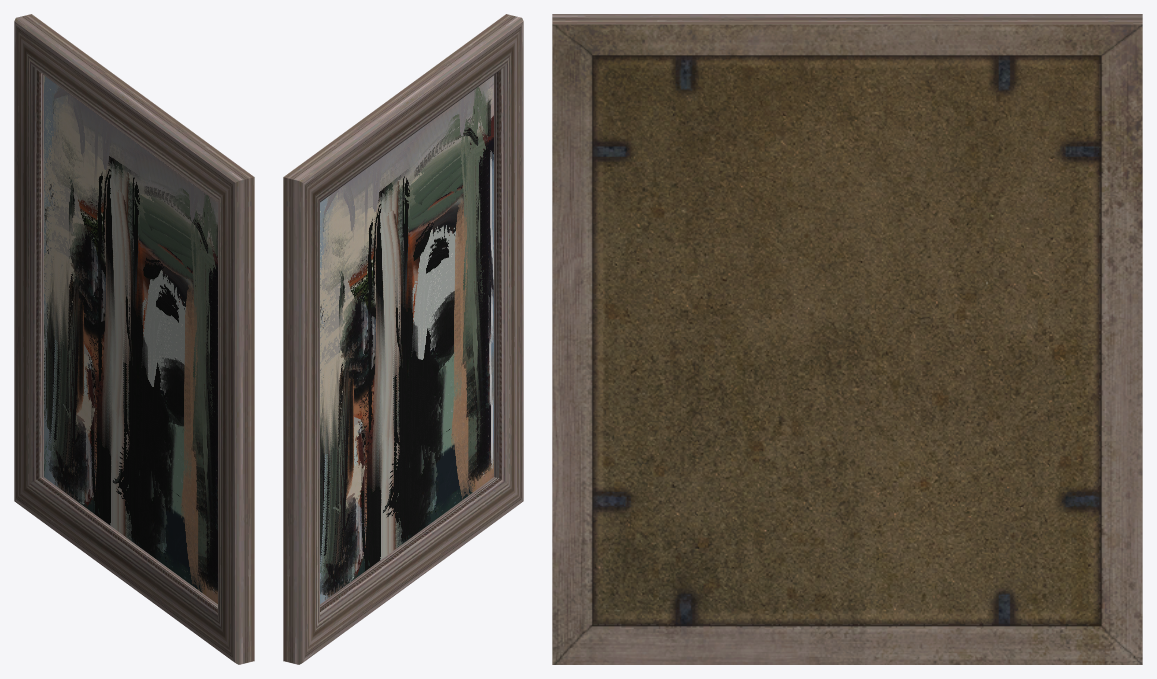
File: painting_kitsch_01_wau.dae
3 views of the same model, side by side, from view 1: azimuth 30°, elevation 25°; view 2: azimuth 150°, elevation 25°; view 3: azimuth 270°, elevation 25° (orthographic). The views are drawn at different scales.
Visible parts, largest first — view 1: painting_kitsch_01_Mesh; view 2: painting_kitsch_01_Mesh; view 3: Mesh__2_, painting_kitsch_01_Mesh.
Part boxes in pixels (x1=…): painting_kitsch_01_Mesh: x1=14, y1=14, x2=254, y2=664; painting_kitsch_01_Mesh: x1=283, y1=14, x2=523, y2=664; Mesh__2_: x1=552, y1=24, x2=1142, y2=664; painting_kitsch_01_Mesh: x1=552, y1=14, x2=1142, y2=24.
Size of the model in its own units: 5.36 by 134 by 112.
